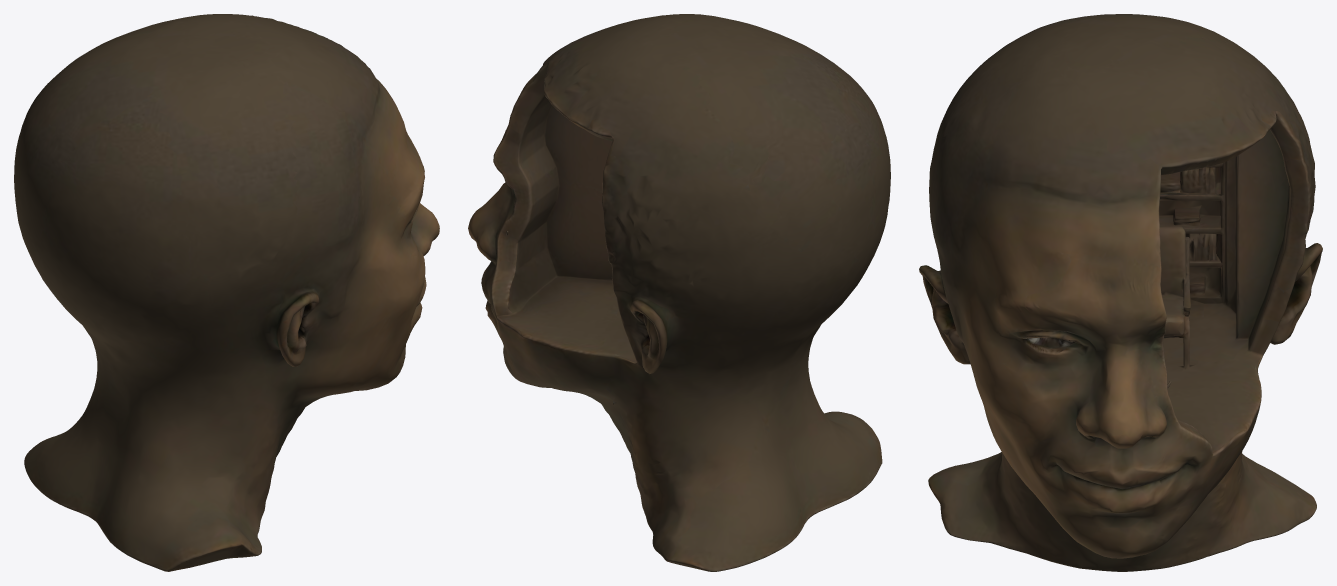
Rendered from metal+bust+3d+model.glb.
3 views of the same model, side by side, from view 1: azimuth 30°, elevation 25°; view 2: azimuth 150°, elevation 25°; view 3: azimuth 270°, elevation 25° (orthographic). The views are drawn at different scales.
Parts seen in each view (by area): view 1: tripo_node_d36a0d8a-4a39-4f92-acb2-59307e61b1ce; view 2: tripo_node_d36a0d8a-4a39-4f92-acb2-59307e61b1ce; view 3: tripo_node_d36a0d8a-4a39-4f92-acb2-59307e61b1ce.
Boxes of the visible parts, box(x1,y1,x2,y2) form: tripo_node_d36a0d8a-4a39-4f92-acb2-59307e61b1ce: box(14, 14, 439, 571); tripo_node_d36a0d8a-4a39-4f92-acb2-59307e61b1ce: box(468, 14, 890, 571); tripo_node_d36a0d8a-4a39-4f92-acb2-59307e61b1ce: box(919, 14, 1322, 571).
Size of the model in its own units: 0.9033 by 0.9814 by 0.7134.
Materials: 1 (1 with a texture image).
